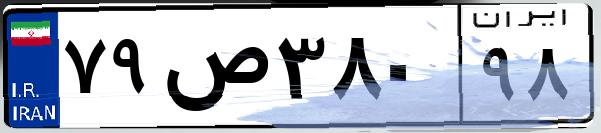0: (385, 28, 445, 110)
3: (270, 28, 330, 110)
7: (57, 26, 110, 100)
8: (330, 28, 385, 110), (525, 38, 570, 115)
9: (475, 38, 525, 113), (110, 28, 158, 98)
ص: (158, 20, 270, 120)
